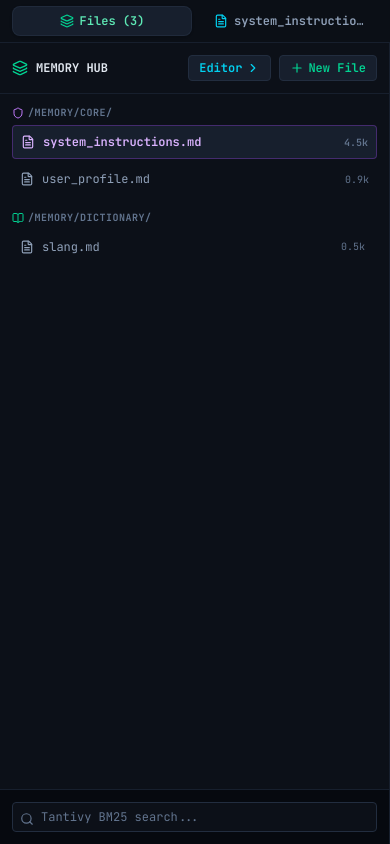
Scenario: MemoryHub Responsive Mobile UI Tests › switches between files list and editor when mobile tabs are clicked
Click the button "system_instructions.md": point(289, 21) [200,6,378,36]
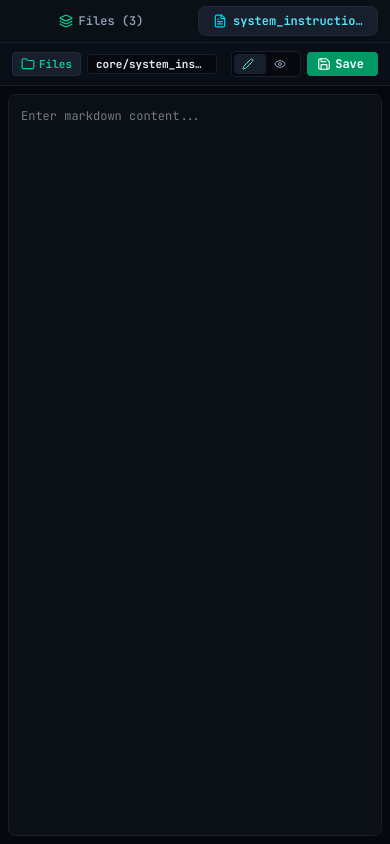
Check: the button titled "Browse memory files" is shown, box [12,52,81,76]
Click the button "Files (3)": point(101, 21) [12,6,190,36]
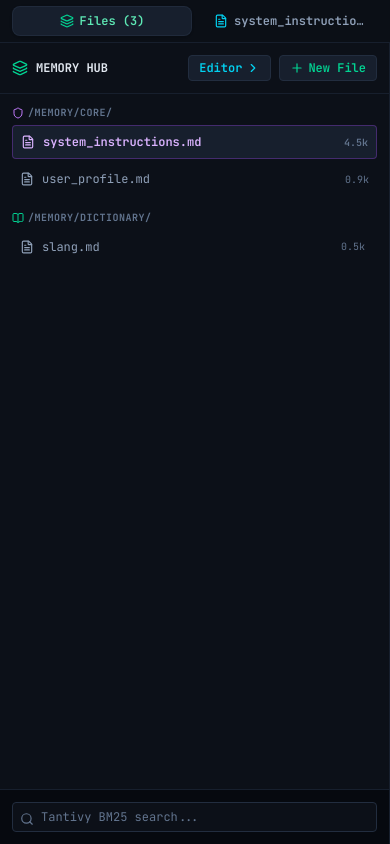
Check: the field with placeholder "Tantivy BM25 search..." is shown, box [12,802,377,832]
